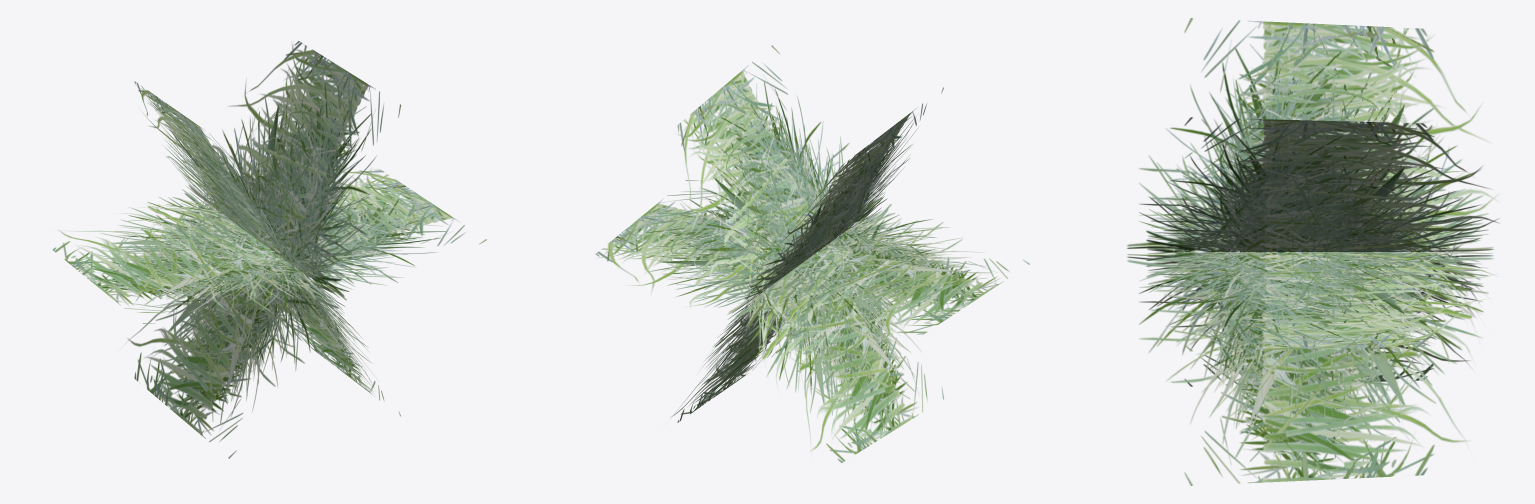
Rendered from GrassCard_Clump_B.glb.
3 views of the same model, side by side, from view 1: azimuth 30°, elevation 25°; view 2: azimuth 150°, elevation 25°; view 3: azimuth 270°, elevation 25° (orthographic). The views are drawn at different scales.
Parts seen in each view (by area): view 1: GrassCard_Clump_B; view 2: GrassCard_Clump_B; view 3: GrassCard_Clump_B.
Boxes of the visible parts, x1,y1,x2,y2 form: GrassCard_Clump_B: (52,41,486,458); GrassCard_Clump_B: (595,45,1029,462); GrassCard_Clump_B: (1127,18,1499,485).
Size of the model in its own units: 0.25 by 0.2165 by 0.22.
Materials: 1 (1 with a texture image).
